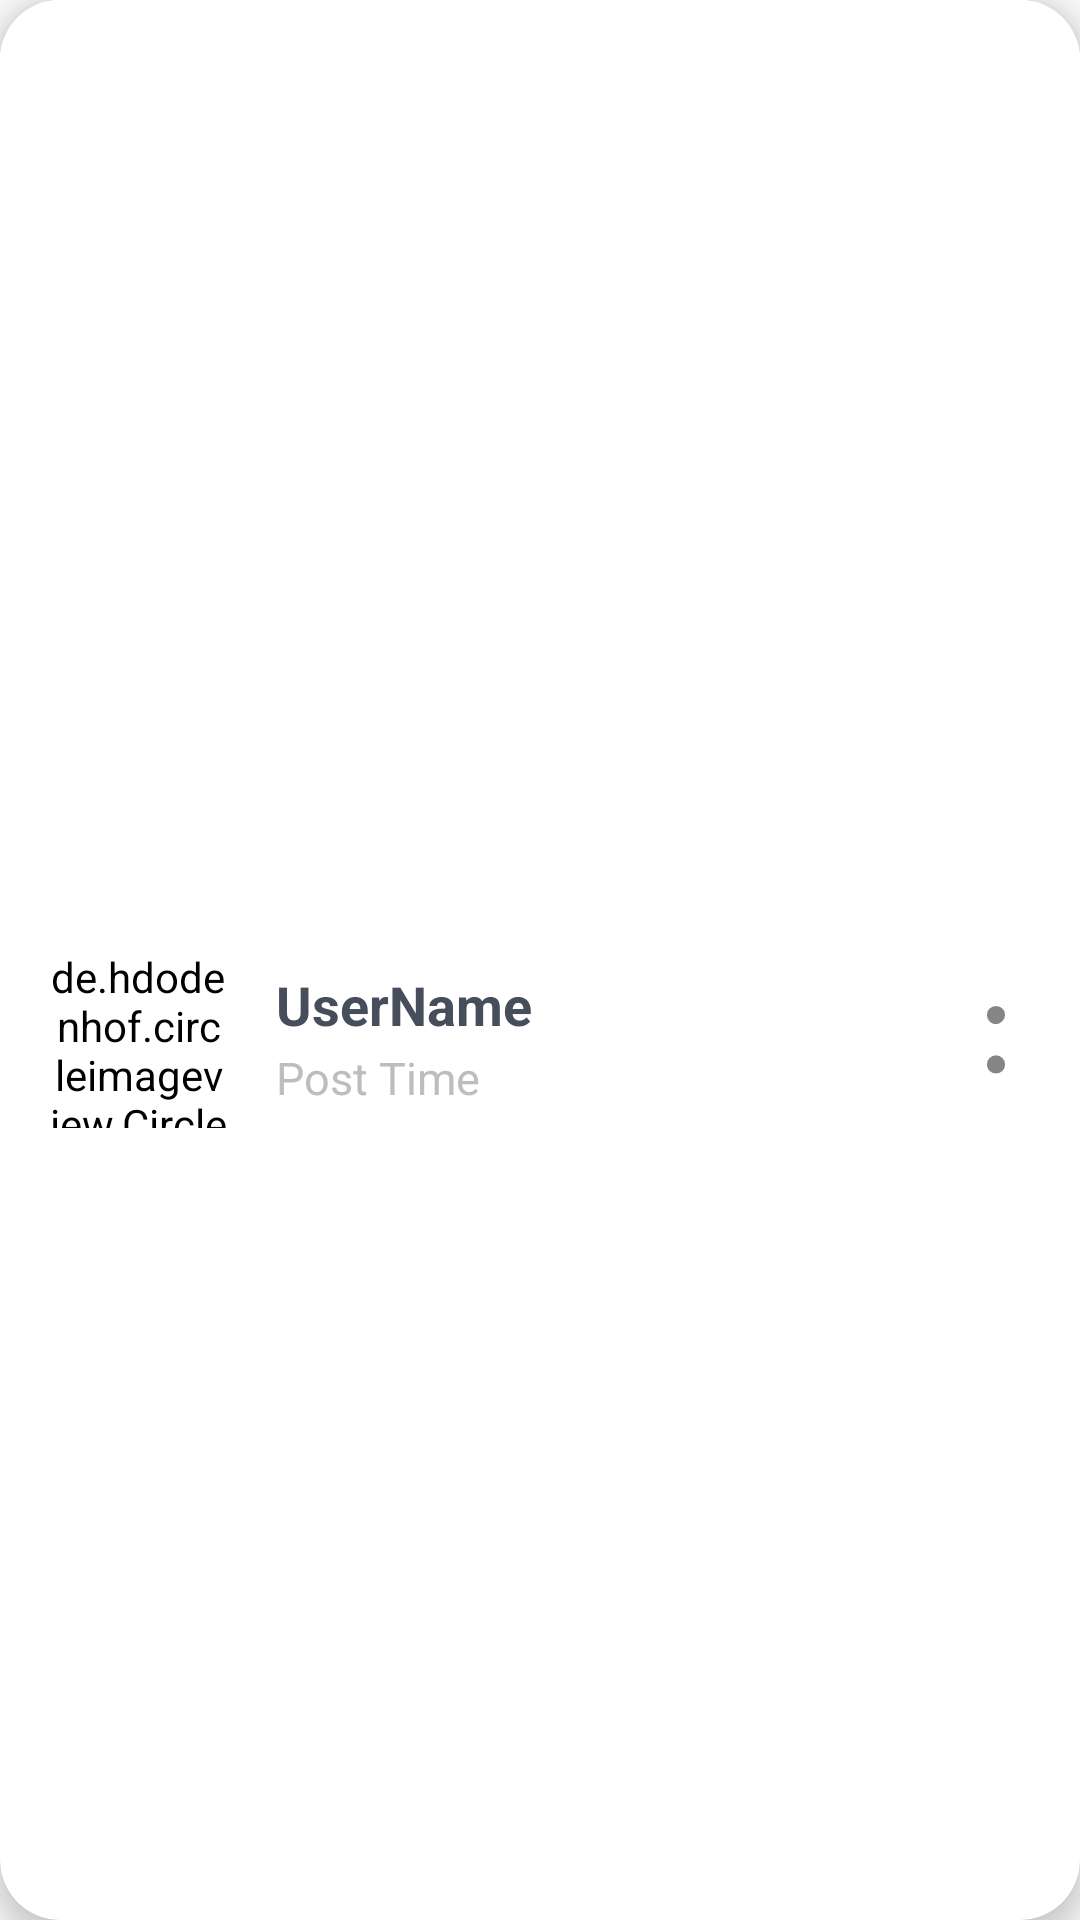

Icon bounding boxes for this 1080x1920 phone screenshot, format (x1, y1, x2, y2):
post menu: (987, 1006, 1005, 1074)
